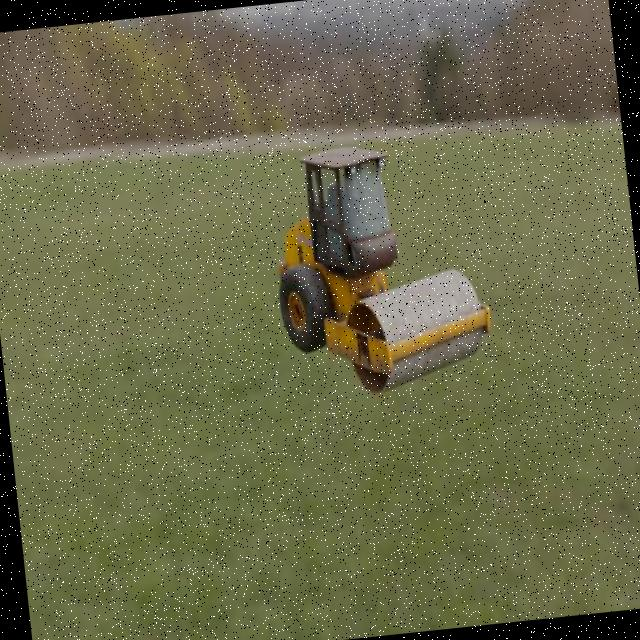Roller: (263, 132, 497, 402)
